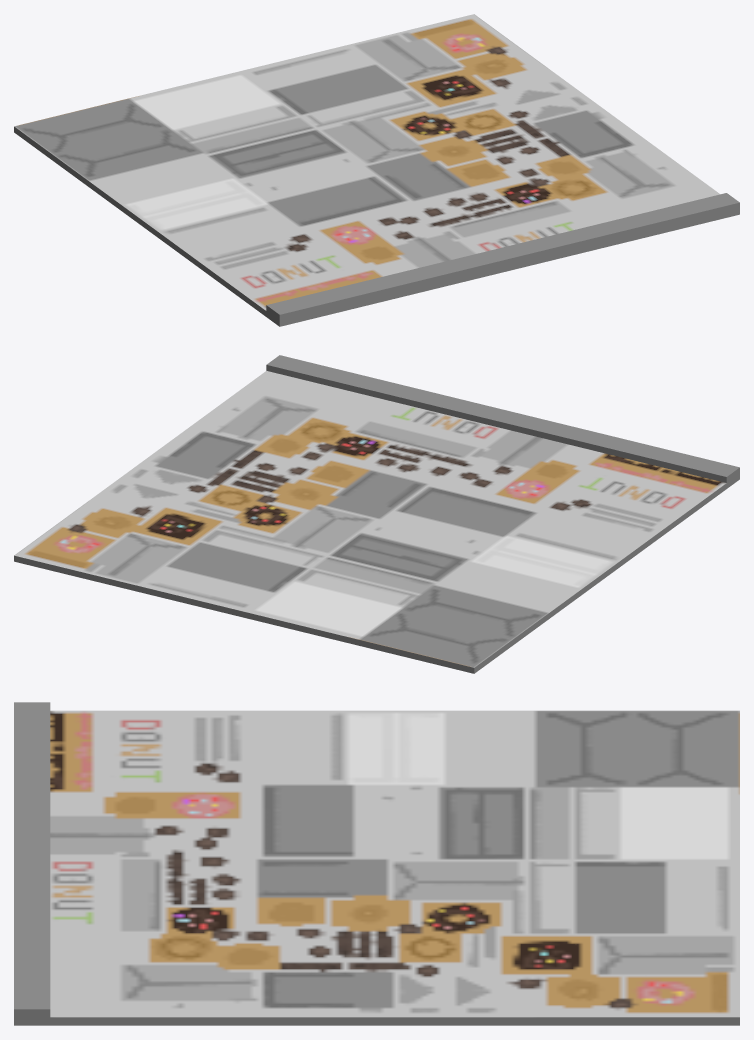
The model's file is Floor_002_B4.FBX.
The picture shows the model from 3 angles, top to bottom: view 1: azimuth 30°, elevation 25°; view 2: azimuth 150°, elevation 25°; view 3: azimuth 270°, elevation 25°; orthographic projection. The views are drawn at different scales.
Visible parts, largest first — view 1: Floor_002_B4; view 2: Floor_002_B4; view 3: Floor_002_B4.
Boxes of the visible parts, x1,y1,x2,y2 form: Floor_002_B4: [14, 14, 739, 326]; Floor_002_B4: [14, 355, 739, 673]; Floor_002_B4: [14, 702, 739, 1025].
Bounding box in the file's own units: 400 × 400 × 10.
